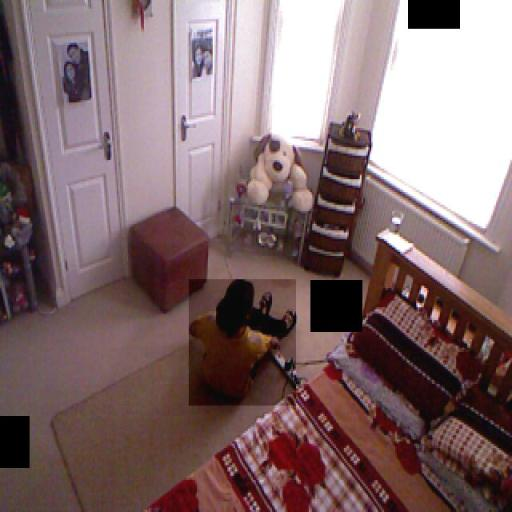Fall: (189, 280, 296, 408)
